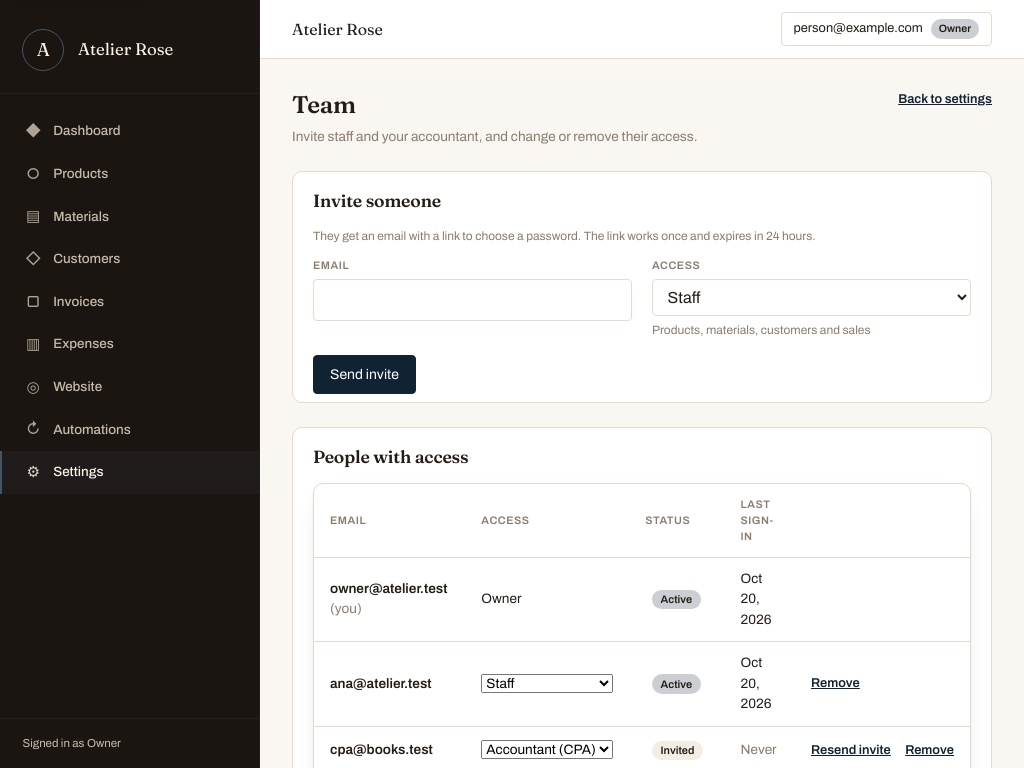
change, resend, remove › resends an invite
Click the button with aria-label "Resend invite to cpa@books.test". click: (851, 751)
box: [811,738,891,764]
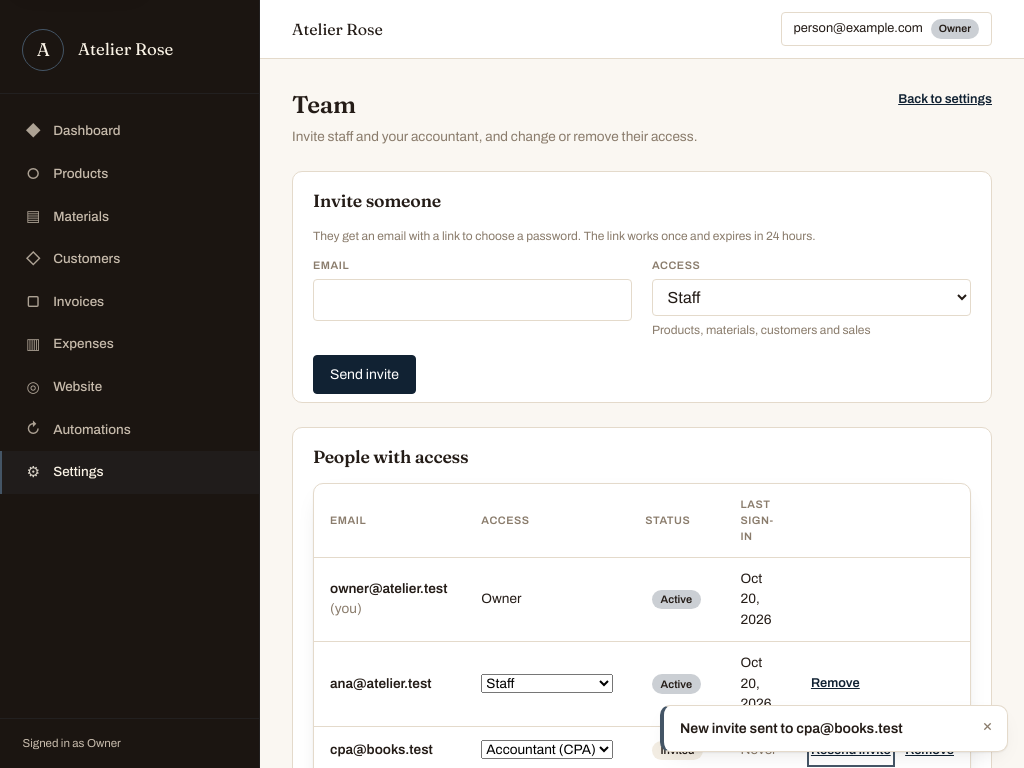
Now the text "New invite sent to cpa@books.test" is shown, box [680,721,903,736]
